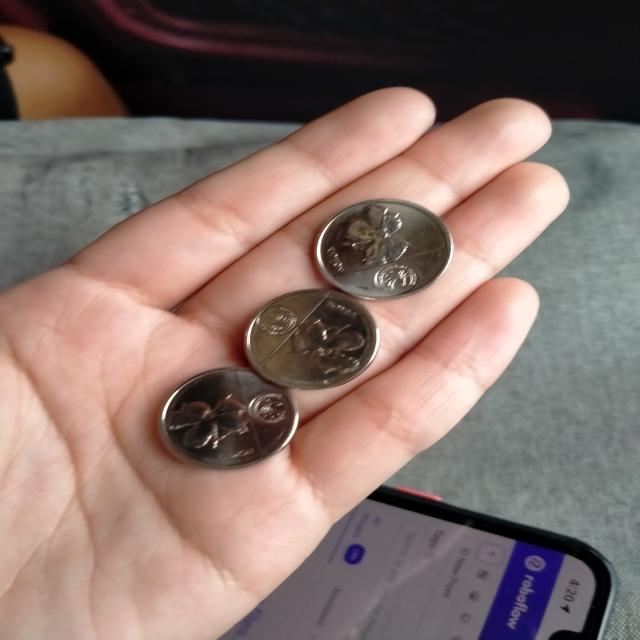25Cent_New_Back: (289, 317, 372, 383), (336, 202, 419, 259), (175, 393, 246, 452)
